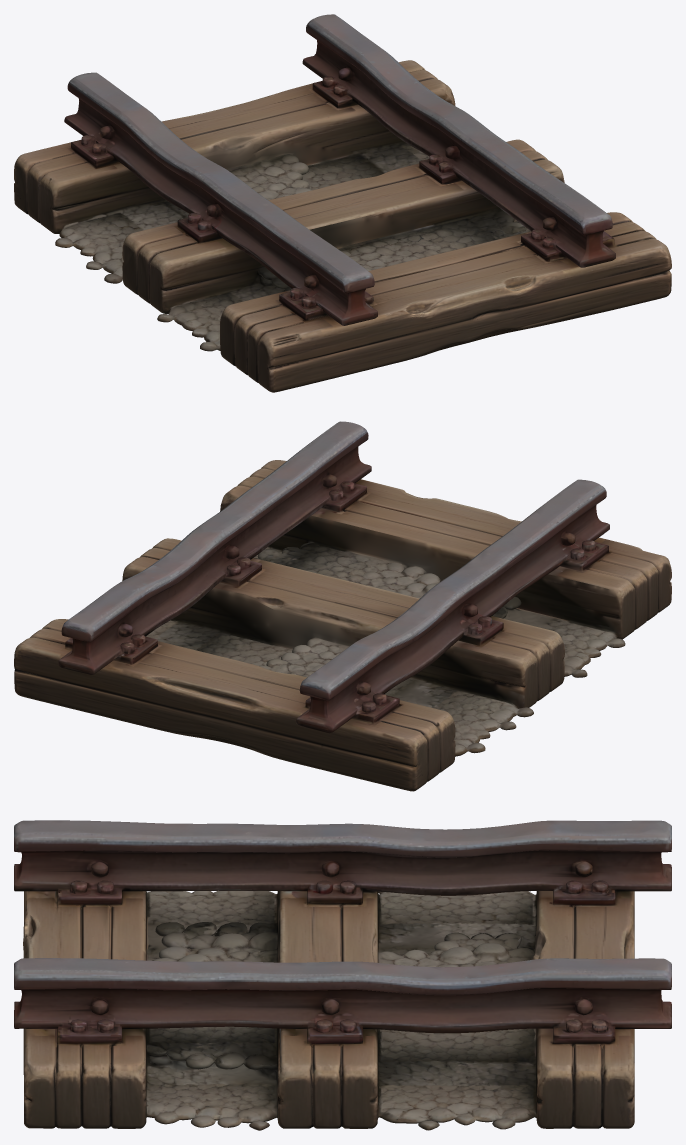
Rendered from rail1_1024.glb.
The picture shows the model from 3 angles, top to bottom: view 1: azimuth 30°, elevation 25°; view 2: azimuth 150°, elevation 25°; view 3: azimuth 270°, elevation 25°; orthographic projection. The views are drawn at different scales.
Visible parts, largest first — view 1: node_0; view 2: node_0; view 3: node_0.
Boxes of the visible parts, left/top/right/bottom form: node_0: left=14, top=14, right=671, bottom=392; node_0: left=14, top=421, right=671, bottom=791; node_0: left=14, top=820, right=671, bottom=1130.
Size of the model in its own units: 0.8226 by 0.1892 by 0.929.
1 material, 1 textured.
